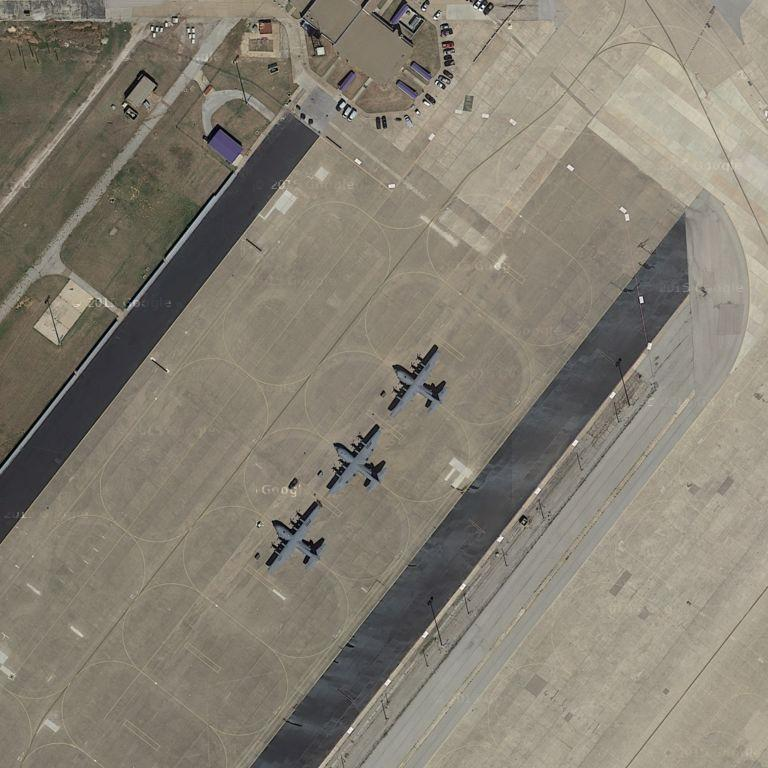C-130: (382, 342, 455, 419), (260, 497, 331, 574), (319, 422, 392, 494)
